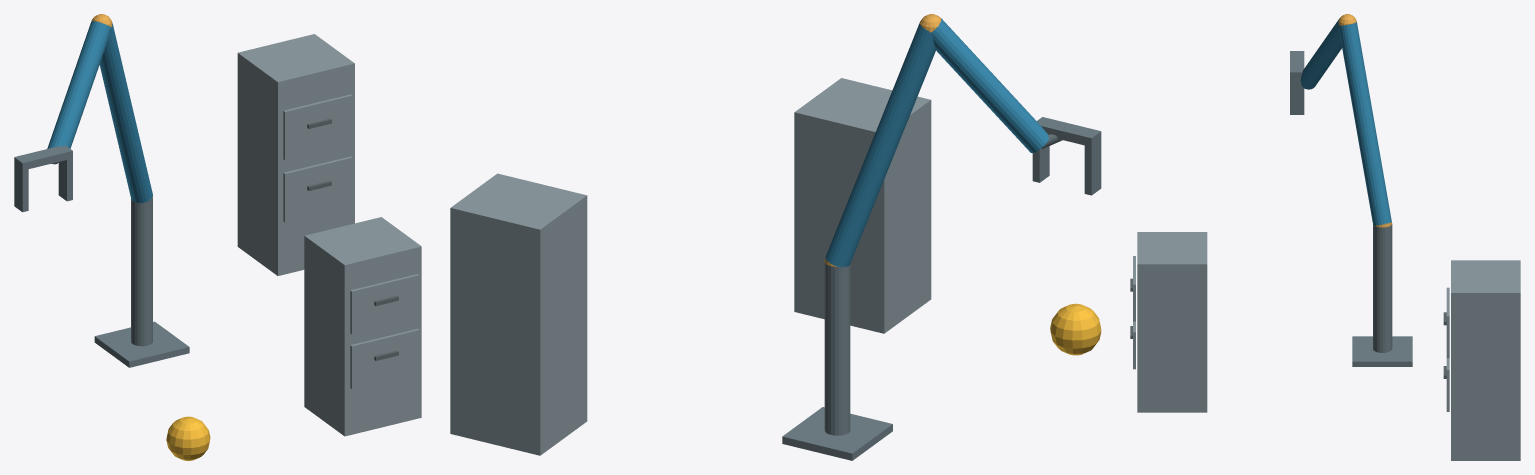
The picture shows the model from 3 angles, left to right: view 1: azimuth 30°, elevation 25°; view 2: azimuth 150°, elevation 25°; view 3: azimuth 270°, elevation 25°; orthographic projection. The views are drawn at different scales.
Parts seen in each view (by area): view 1: cabinet_2 body, cabinet_1 body, moving link 1, cabinet_2 drawer front.001, cabinet_2 drawer front, fixed post, cabinet_1 drawer front, cabinet_1 drawer front.001, moving link 2, pedestal, ball ball_1, gripper bridge (+2 smaller); view 2: cabinet_2 body, cabinet_1 body, moving link 1, fixed post, moving link 2, pedestal, ball ball_1, gripper bridge, gripper finger -1; view 3: cabinet_2 body, cabinet_1 body, moving link 1, fixed post, pedestal, moving link 2, gripper finger 1.
Boxes of the visible parts, bbox=[...] form: cabinet_2 body: bbox=[237, 34, 354, 275]; cabinet_1 body: bbox=[304, 217, 421, 436]; moving link 1: bbox=[99, 23, 152, 203]; cabinet_2 drawer front.001: bbox=[283, 94, 352, 160]; cabinet_2 drawer front: bbox=[283, 156, 352, 222]; fixed post: bbox=[131, 198, 152, 346]; cabinet_1 drawer front: bbox=[350, 329, 419, 388]; cabinet_1 drawer front.001: bbox=[350, 274, 419, 334]; moving link 2: bbox=[47, 21, 111, 148]; pedestal: bbox=[94, 321, 189, 367]; ball ball_1: bbox=[166, 416, 210, 460]; gripper bridge: bbox=[14, 145, 72, 170]; cabinet_2 body: bbox=[450, 173, 587, 455]; cabinet_1 body: bbox=[794, 78, 931, 333]; moving link 1: bbox=[825, 23, 935, 267]; fixed post: bbox=[824, 261, 850, 435]; moving link 2: bbox=[932, 18, 1048, 152]; pedestal: bbox=[782, 407, 892, 460]; ball ball_1: bbox=[1050, 303, 1101, 355]; gripper bridge: bbox=[1037, 117, 1101, 146]; gripper finger -1: bbox=[1084, 140, 1101, 195]; cabinet_2 body: bbox=[1451, 260, 1520, 460]; cabinet_1 body: bbox=[1137, 232, 1207, 412]; moving link 1: bbox=[1339, 22, 1391, 225]; fixed post: bbox=[1373, 224, 1392, 352]; pedestal: bbox=[1352, 336, 1412, 366]; moving link 2: bbox=[1300, 18, 1341, 89]; gripper finger 1: bbox=[1290, 79, 1304, 114].
Size of the model in its own units: 1.77 by 1.44 by 1.62.
